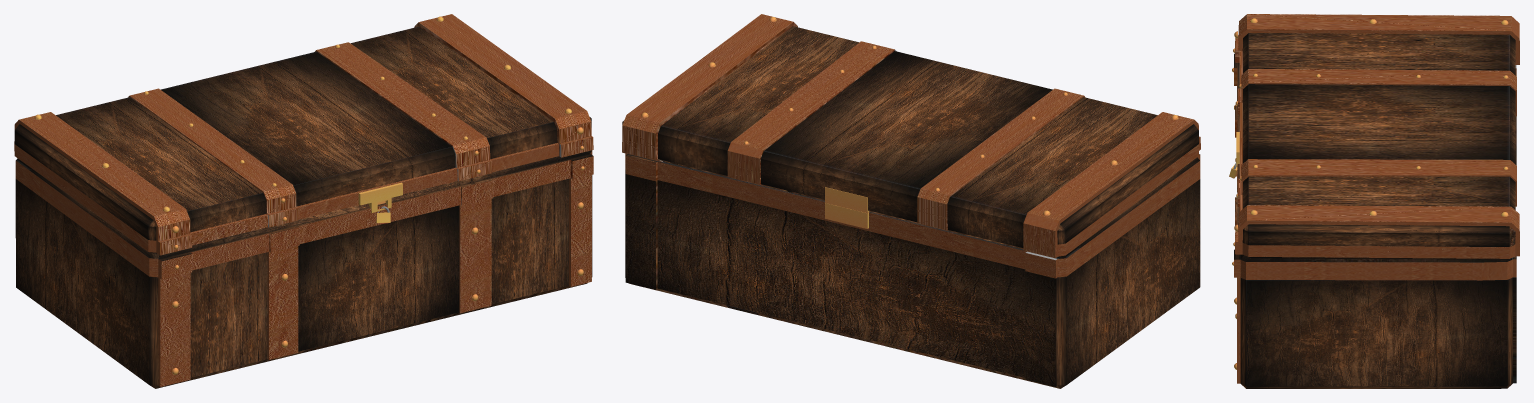
The model's file is box money.fbx.
3 views of the same model, side by side, from view 1: azimuth 30°, elevation 25°; view 2: azimuth 150°, elevation 25°; view 3: azimuth 270°, elevation 25° (orthographic). The views are drawn at different scales.
Visible parts, largest first — view 1: polySurface1, pCube1; view 2: polySurface1, pCube1, pCube11, pCube12; view 3: polySurface1, pCube1.
Part boxes in pixels (bbox=[...]): polySurface1: bbox=[14, 14, 593, 255]; pCube1: bbox=[15, 150, 593, 388]; polySurface1: bbox=[622, 14, 1200, 258]; pCube1: bbox=[625, 153, 1200, 388]; pCube11: bbox=[825, 203, 868, 228]; pCube12: bbox=[825, 187, 869, 213]; polySurface1: bbox=[1229, 14, 1519, 260]; pCube1: bbox=[1234, 53, 1516, 388].
Bounding box in the file's own units: 10.39 × 3.93 × 6.04.
5 materials, 3 textured.
